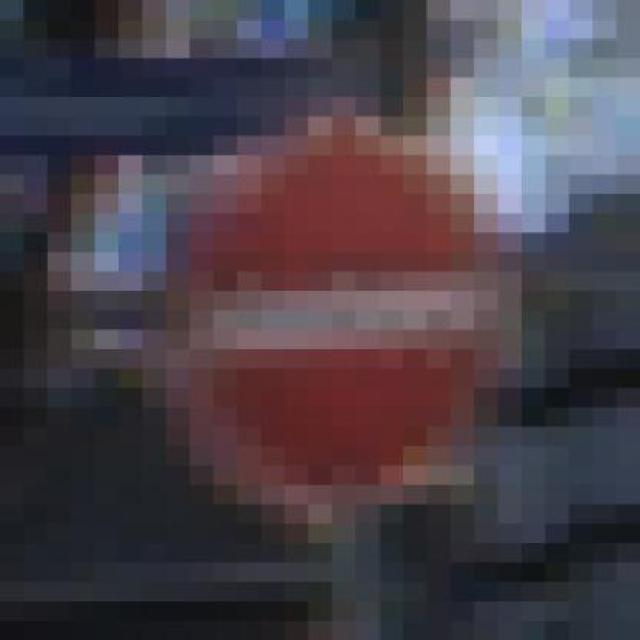No Entry: (113, 59, 541, 564)
